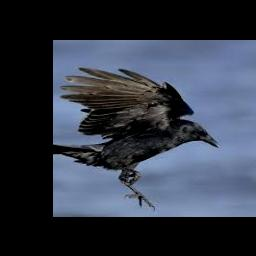Crow: (53, 67, 220, 213)
